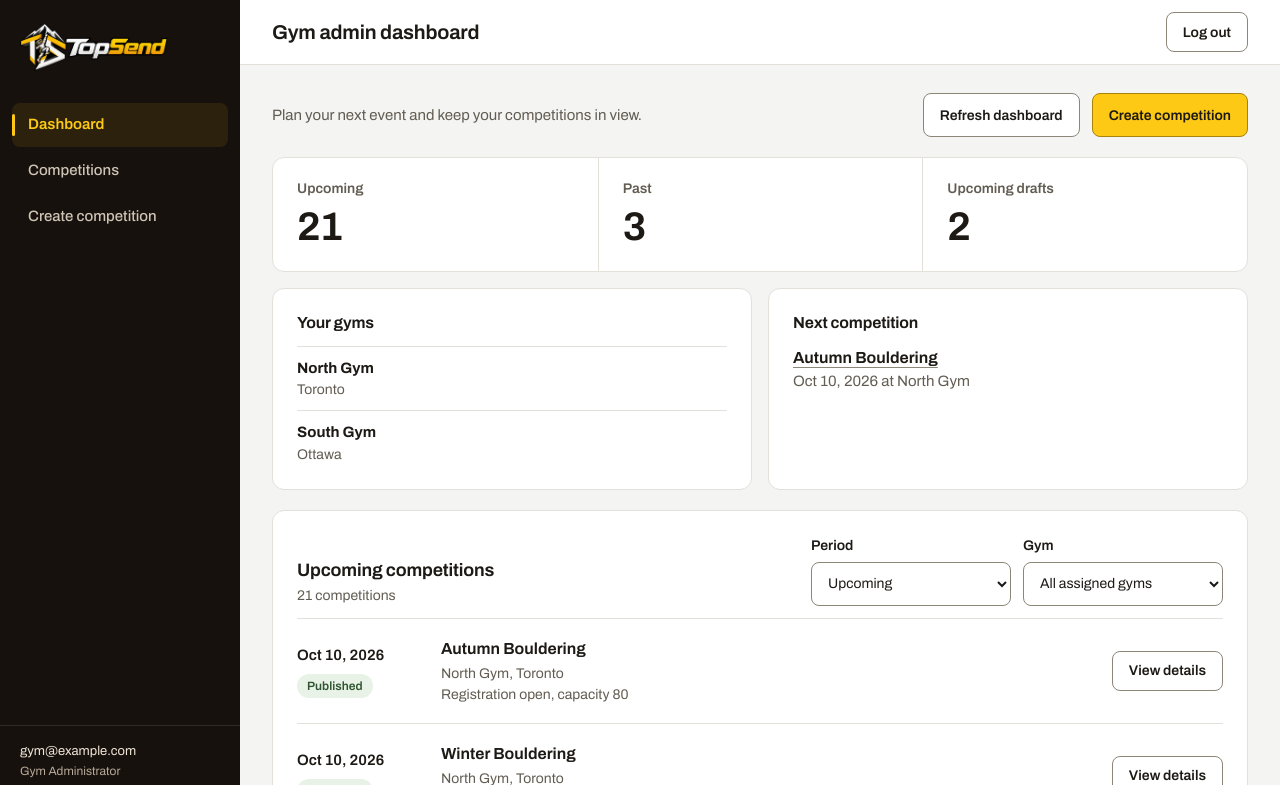
Test case: US-011 #42/#43 gym administrator dashboard › navigates to a separate details page and returns to the dashboard
Click the link with aria-label "View details for Autumn Bouldering": (1167, 671) x1=1112 y1=651 x2=1223 y2=691
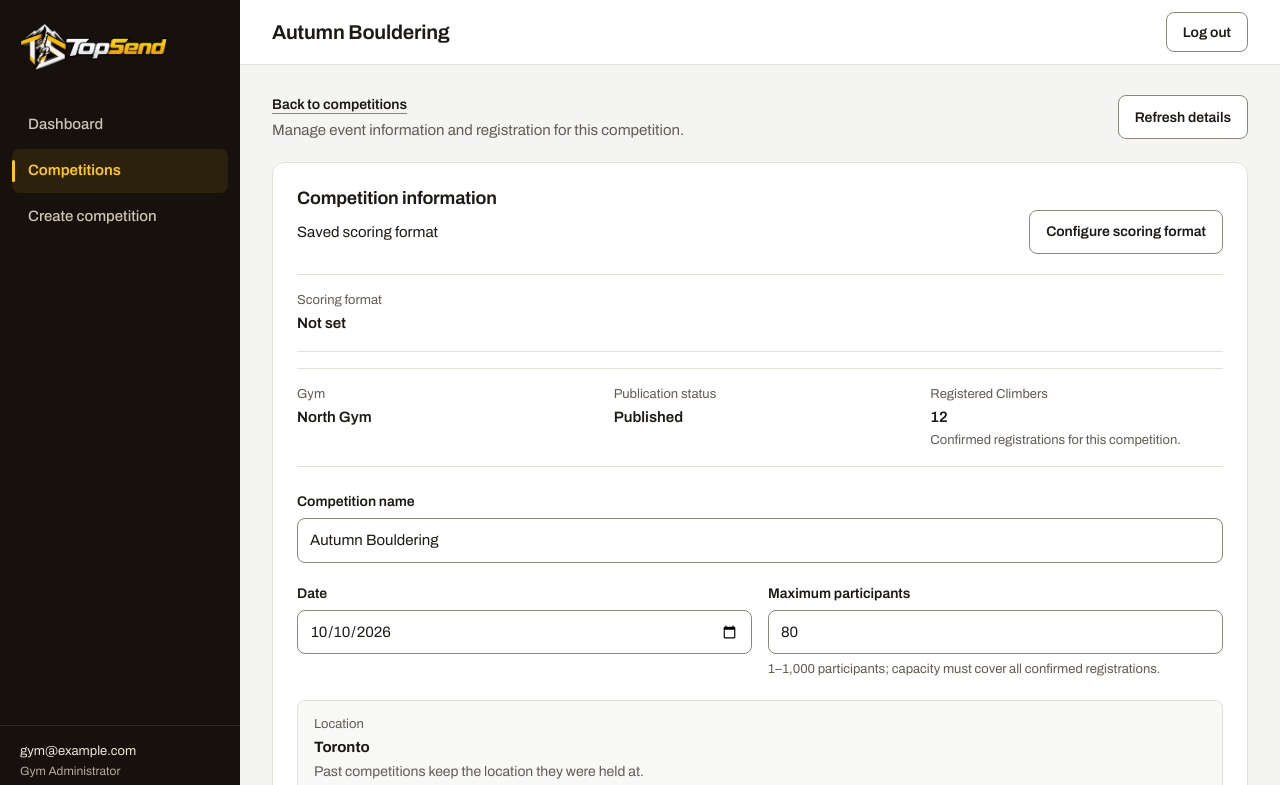
Expected: the heading "Autumn Bouldering" is shown, x1=272 y1=21 x2=450 y2=43
Expected: the heading "Upcoming competitions" is gone
Click the link "Back to competitions": (340, 104) x1=272 y1=94 x2=407 y2=115
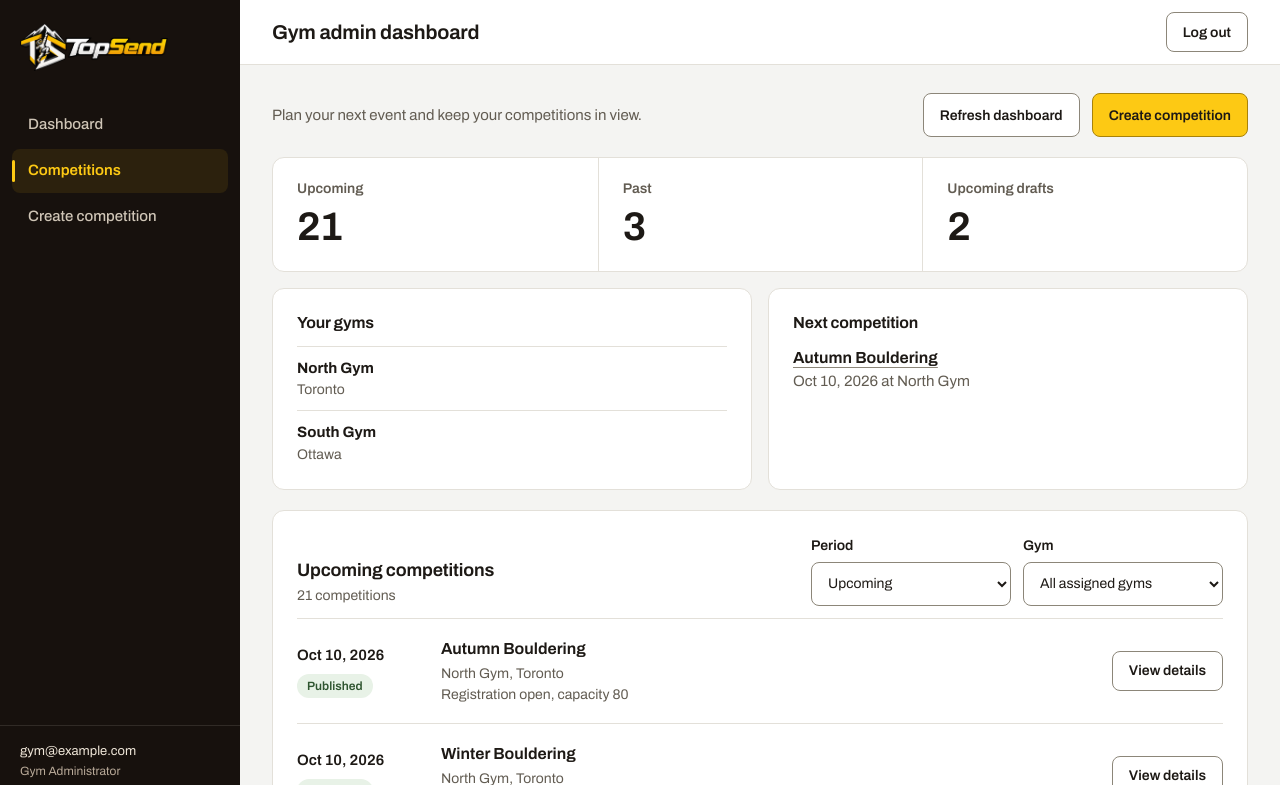
Expected: the heading "Gym admin dashboard" is shown, x1=272 y1=21 x2=479 y2=43
Expected: the link with aria-label "View details for Autumn Bouldering" is shown, x1=1112 y1=651 x2=1223 y2=691
